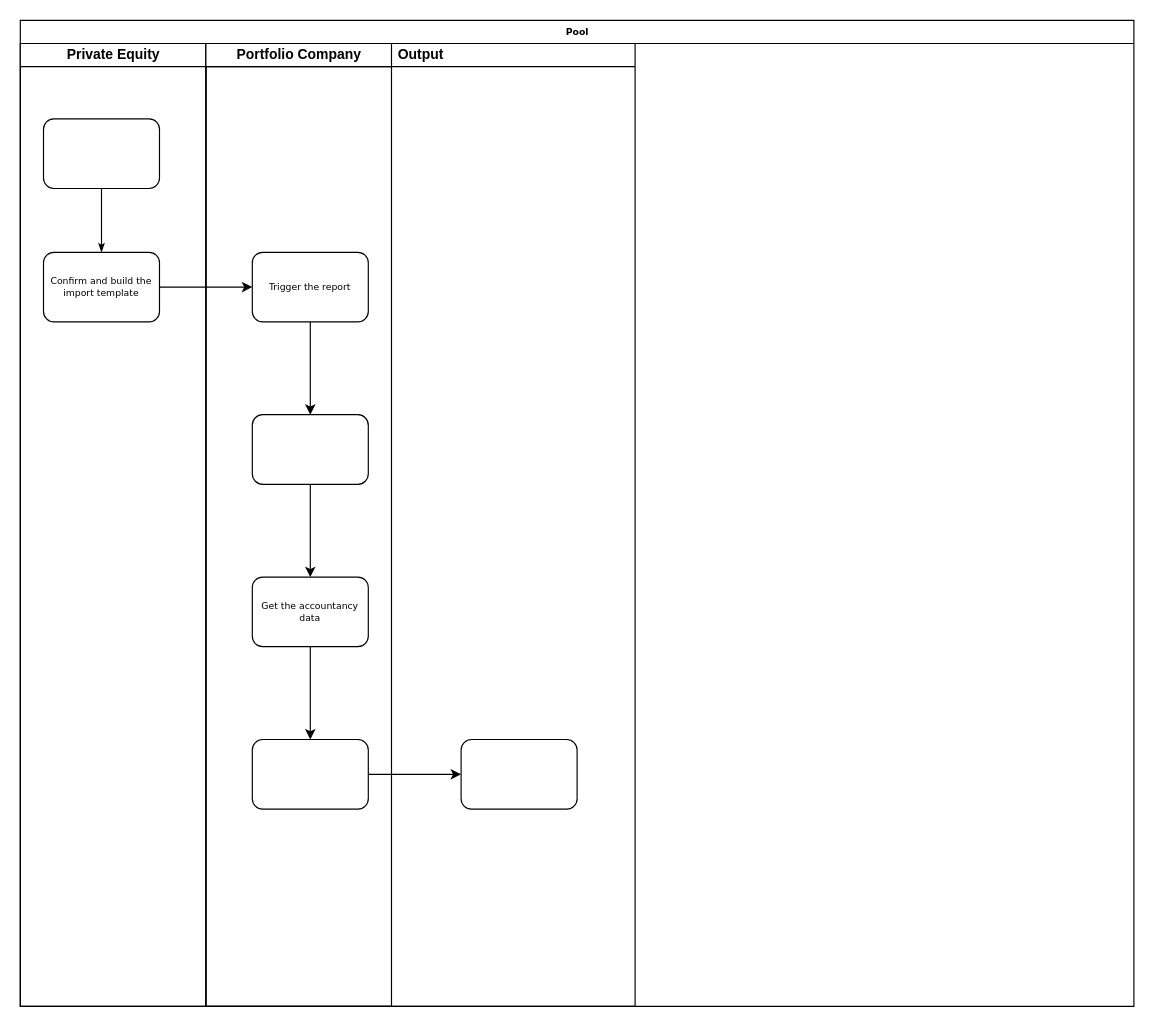
Some shapes in this 1154 by 1027 pixel diagram are drawn without their labels. Here are the shapes that lost their labels. From the top down, the centre of each, then its label:
At (101,153): "Select fields for import template".
At (309,449): "Get the import template".
At (309,773): "Run both through the AI model asking for a data mapping".
At (518,773): "Product report".
